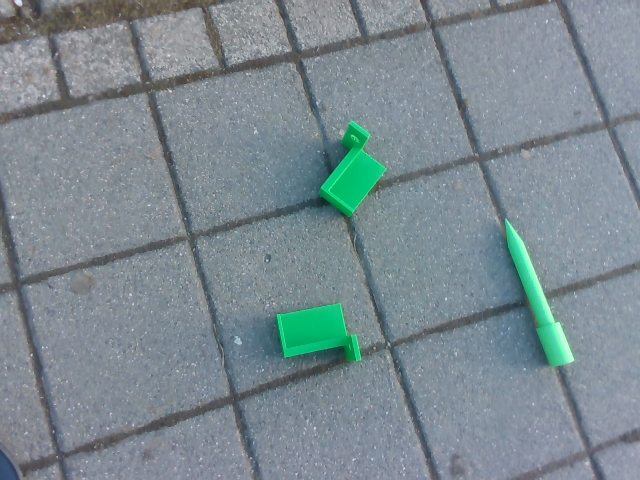Probe: (502, 208, 578, 372)
